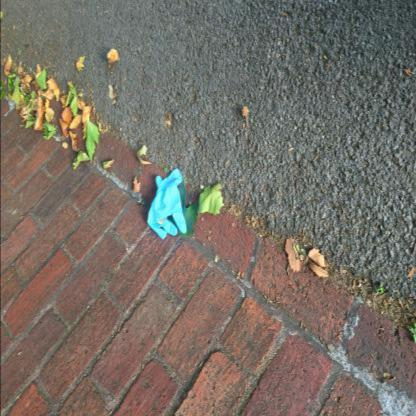Other litter: (147, 169, 187, 240)
